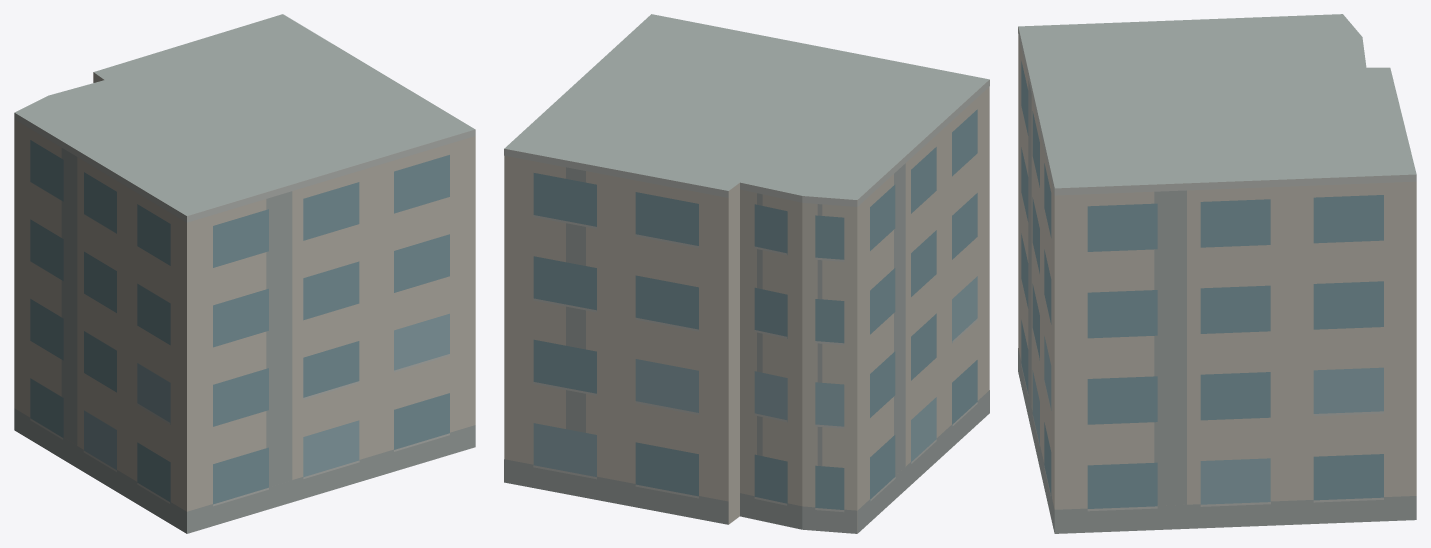
File: residential-0e80bd08-bd48-4fc6-ae9d-f4eeb178c2a3.glb
3 views of the same model, side by side, from view 1: azimuth 30°, elevation 25°; view 2: azimuth 150°, elevation 25°; view 3: azimuth 270°, elevation 25° (orthographic). The views are drawn at different scales.
Parts seen in each view (by area): view 1: residential-0e80bd08-bd48-4fc6-ae9d-f4eeb178c2a3.tmp; view 2: residential-0e80bd08-bd48-4fc6-ae9d-f4eeb178c2a3.tmp; view 3: residential-0e80bd08-bd48-4fc6-ae9d-f4eeb178c2a3.tmp.
Part boxes in pixels (box(x1,y1,x2,y2)): residential-0e80bd08-bd48-4fc6-ae9d-f4eeb178c2a3.tmp: box(14, 14, 475, 533); residential-0e80bd08-bd48-4fc6-ae9d-f4eeb178c2a3.tmp: box(504, 14, 989, 533); residential-0e80bd08-bd48-4fc6-ae9d-f4eeb178c2a3.tmp: box(1018, 14, 1416, 533).
Size of the model in its own units: 12.73 by 11.75 by 12.29.
